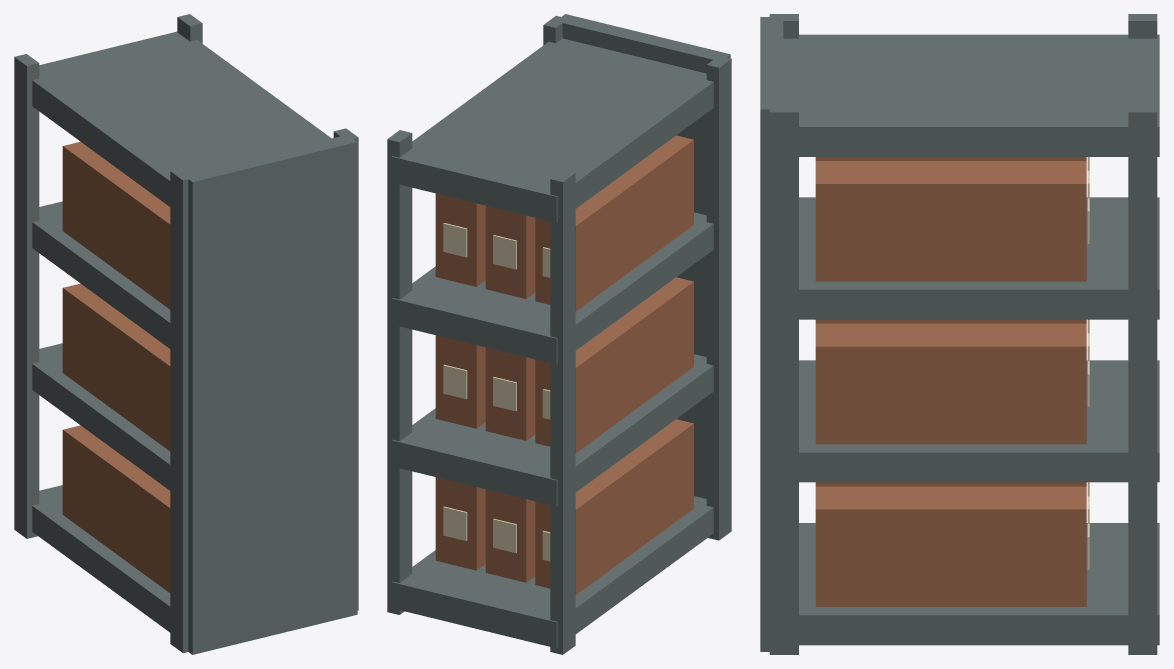
The model's file is LP_Security_Shelf.fbx.
The picture shows the model from 3 angles, left to right: view 1: azimuth 30°, elevation 25°; view 2: azimuth 150°, elevation 25°; view 3: azimuth 270°, elevation 25°; orthographic projection. The views are drawn at different scales.
Visible parts, largest first — view 1: M_Museum_BrushedMetal, Terracotta; view 2: M_Museum_BrushedMetal, Terracotta, WarmIvory; view 3: M_Museum_BrushedMetal, Terracotta, WarmIvory.
Part boxes in pixels (x1=…): M_Museum_BrushedMetal: x1=14, y1=14, x2=358, y2=654; Terracotta: x1=62, y1=141, x2=170, y2=592; M_Museum_BrushedMetal: x1=387, y1=14, x2=731, y2=654; Terracotta: x1=435, y1=135, x2=693, y2=594; WarmIvory: x1=443, y1=223, x2=550, y2=561; M_Museum_BrushedMetal: x1=760, y1=14, x2=1159, y2=654; Terracotta: x1=815, y1=157, x2=1086, y2=606; WarmIvory: x1=1087, y1=157, x2=1089, y2=569.
Size of the model in its own units: 70 by 180 by 120.
